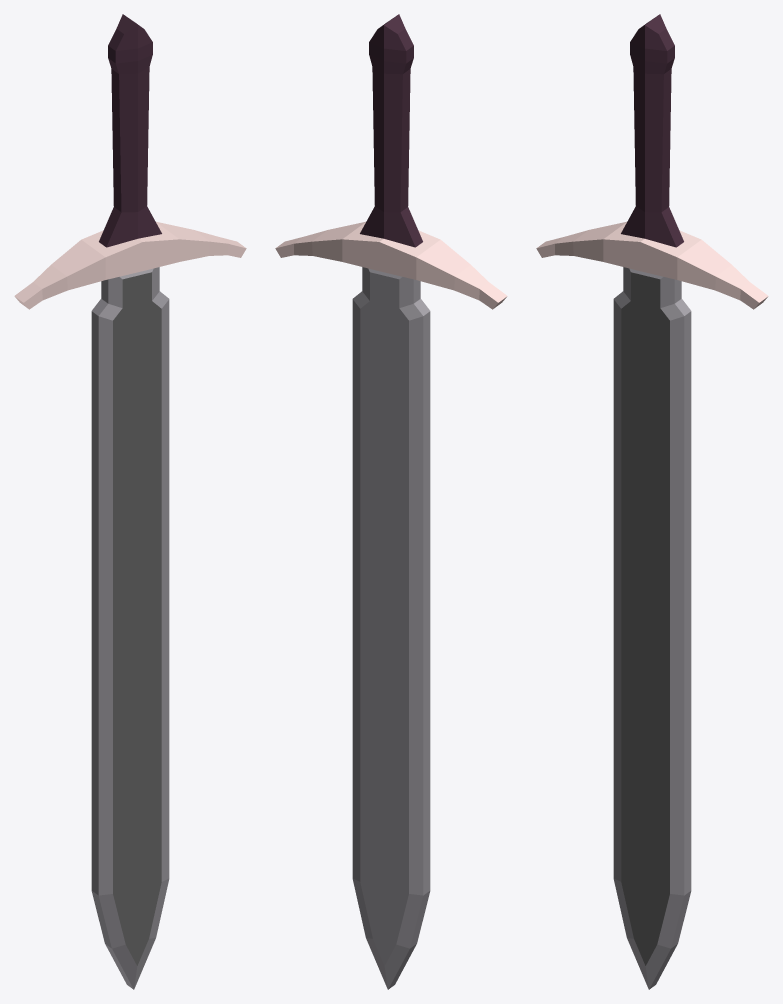
File: Great Sword3 Model.fbx
The picture shows the model from 3 angles, left to right: view 1: azimuth 30°, elevation 25°; view 2: azimuth 150°, elevation 25°; view 3: azimuth 330°, elevation 25°; orthographic projection.
Visible parts, largest first — view 1: Sword 3; view 2: Sword 3; view 3: Sword 3.
Boxes of the visible parts, box(x1,y1,x2,y2) form: Sword 3: box(14, 14, 246, 989); Sword 3: box(275, 14, 507, 989); Sword 3: box(536, 14, 768, 989).
Bounding box in the file's own units: 79.9 × 331 × 15.09.
